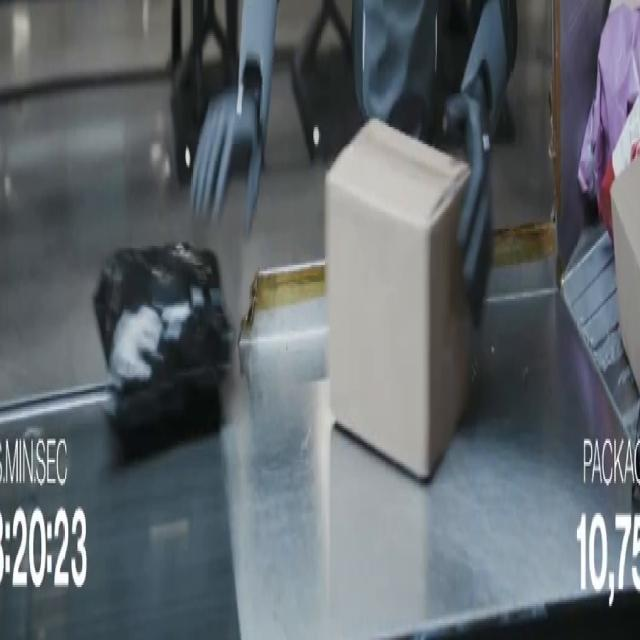package: (325, 121, 471, 478), (94, 244, 232, 428), (578, 3, 639, 201), (612, 159, 639, 383), (612, 159, 639, 381), (598, 100, 639, 239)
